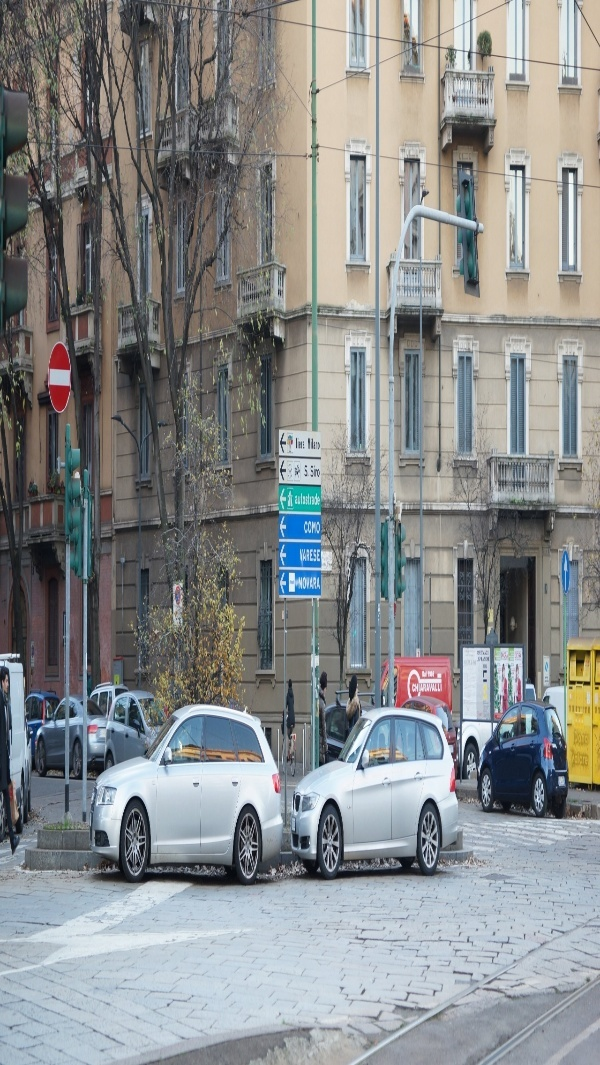text: (305, 492, 320, 506), (305, 521, 320, 534), (305, 549, 320, 562), (305, 465, 320, 477), (305, 577, 320, 589), (577, 730, 588, 745), (577, 751, 588, 765), (417, 683, 432, 693), (308, 438, 320, 450), (296, 492, 304, 506), (311, 465, 320, 477), (481, 650, 490, 662), (546, 676, 560, 683), (433, 683, 442, 693), (296, 438, 304, 448), (502, 652, 512, 660), (423, 670, 432, 678), (484, 663, 496, 669), (515, 653, 528, 658), (299, 577, 304, 589), (572, 751, 576, 765), (300, 549, 304, 562), (477, 650, 480, 662), (413, 683, 416, 693), (428, 671, 432, 678), (575, 730, 576, 745), (433, 671, 435, 678)
